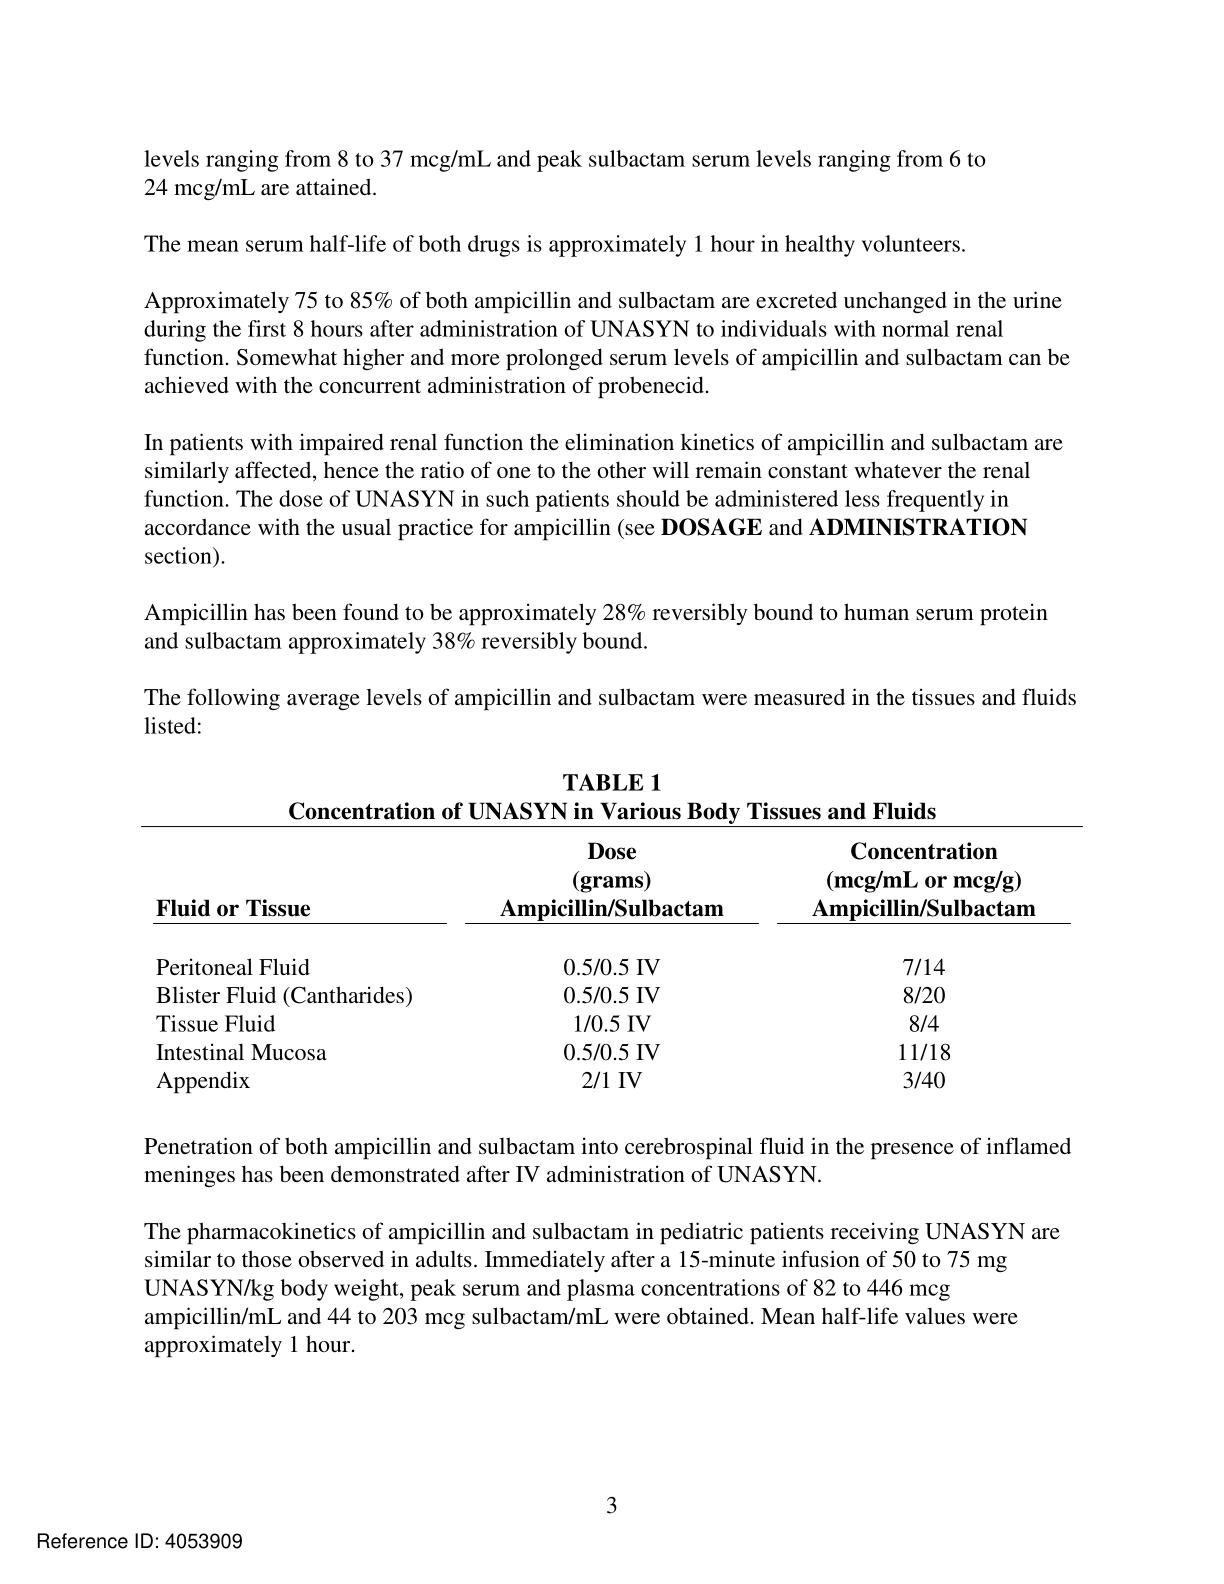partial_lined: (138, 824, 1086, 1095)
